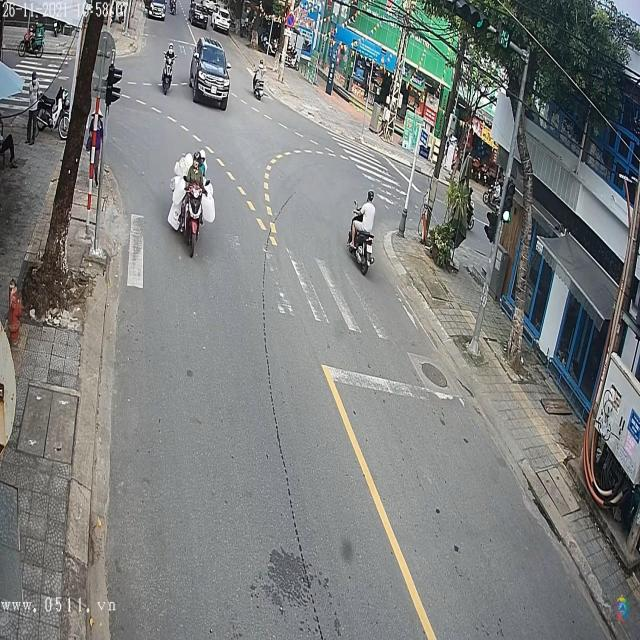car: (189, 37, 232, 111), (147, 2, 168, 21)
motorcycle: (180, 181, 210, 259), (349, 223, 376, 276), (160, 48, 177, 94), (252, 68, 268, 100)
